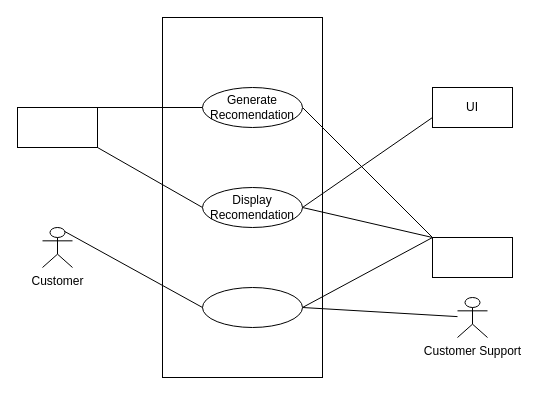
Image size: 538x395. Some labels were removed from this diagram. Here are the shapes that lost their labels. From the top down, the centre of each, then its label:
At (x=57, y=127): "System".
At (x=472, y=257): "Database".
At (x=252, y=307): "Feedback".
